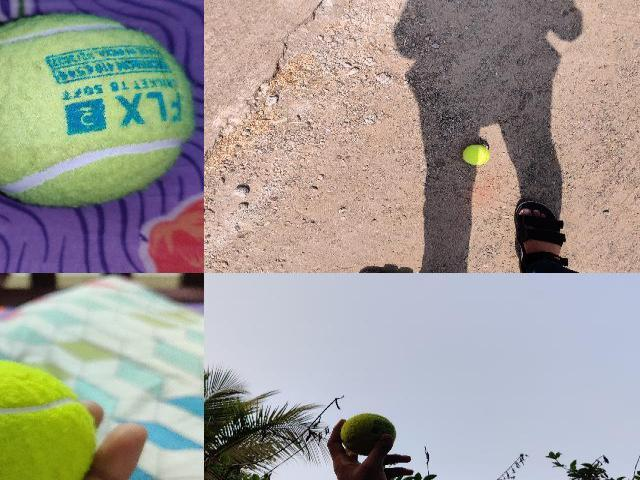tennis-ball: (0, 13, 195, 210), (0, 357, 97, 479), (338, 412, 396, 456), (462, 145, 490, 164)
